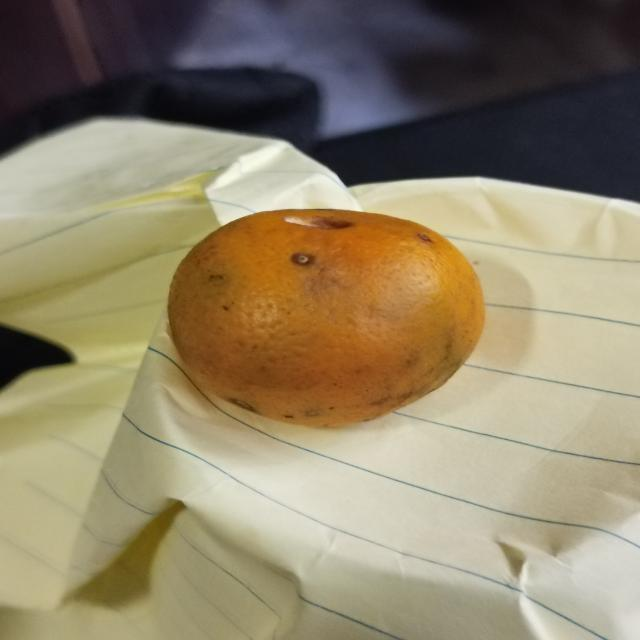black spot: (161, 200, 492, 427)
